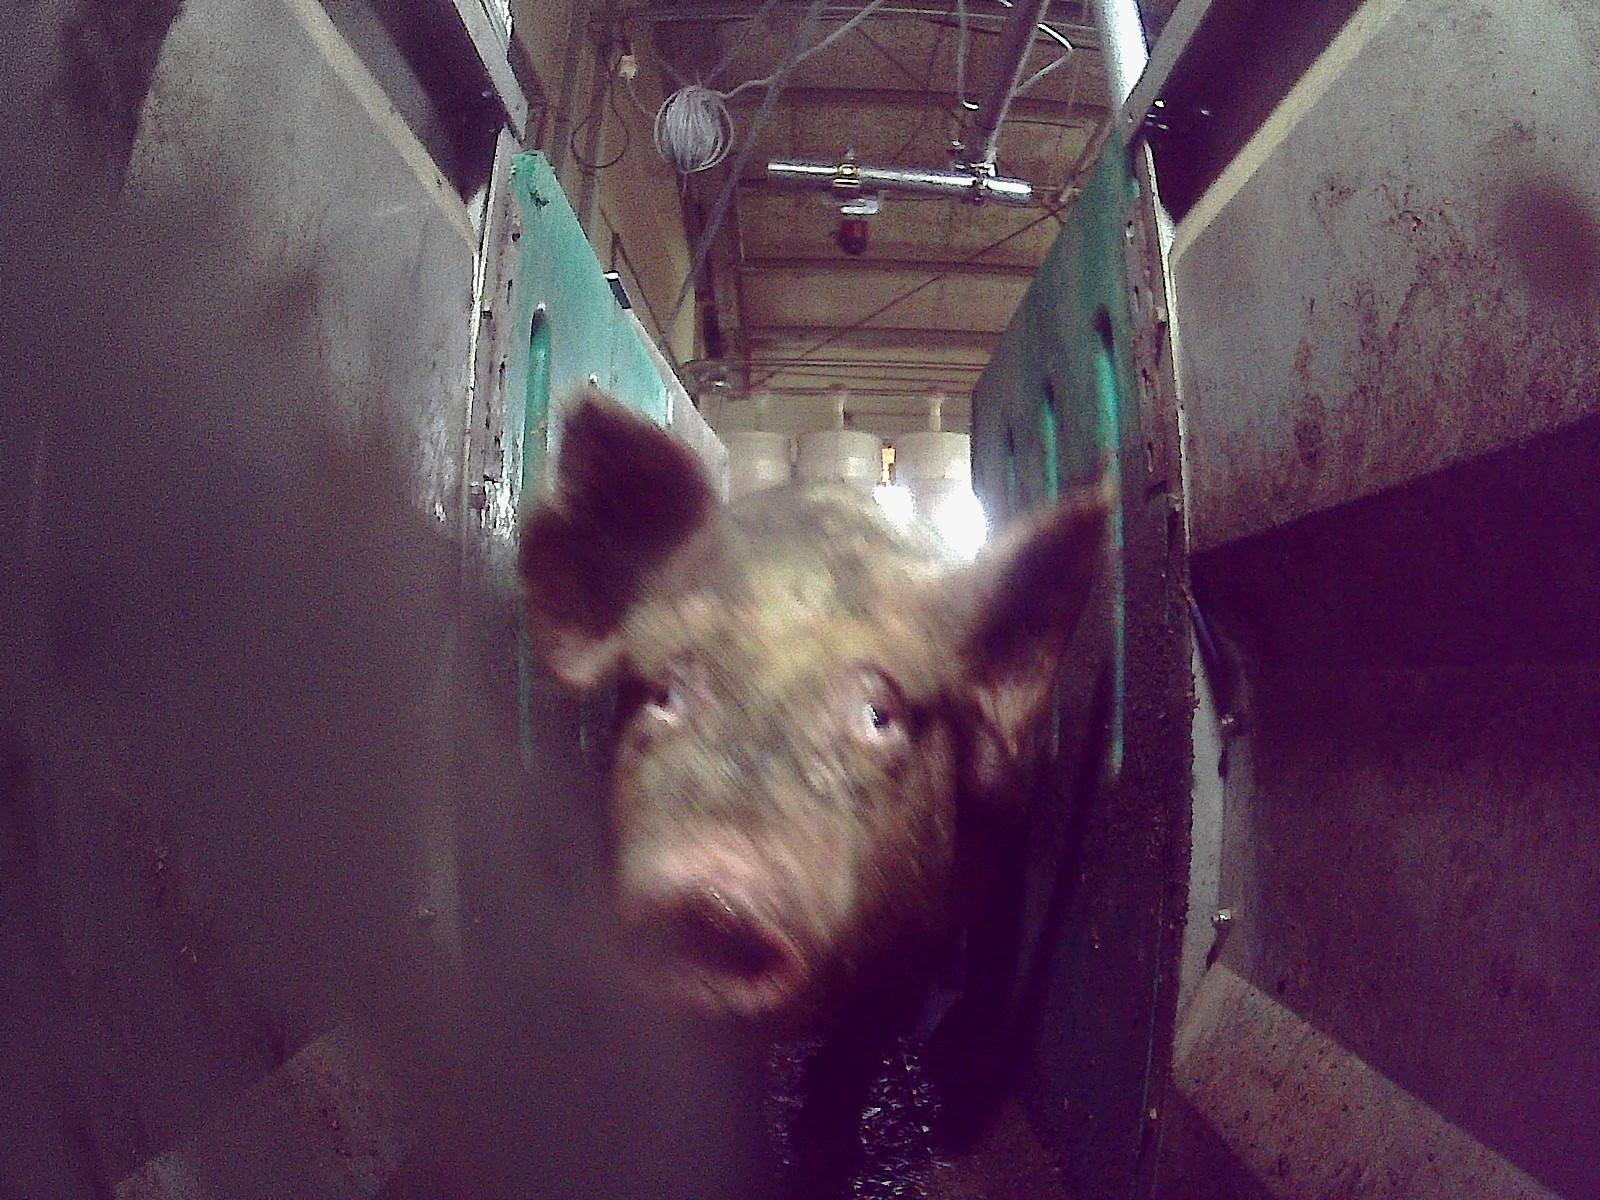Face: (590, 527, 971, 1020)
